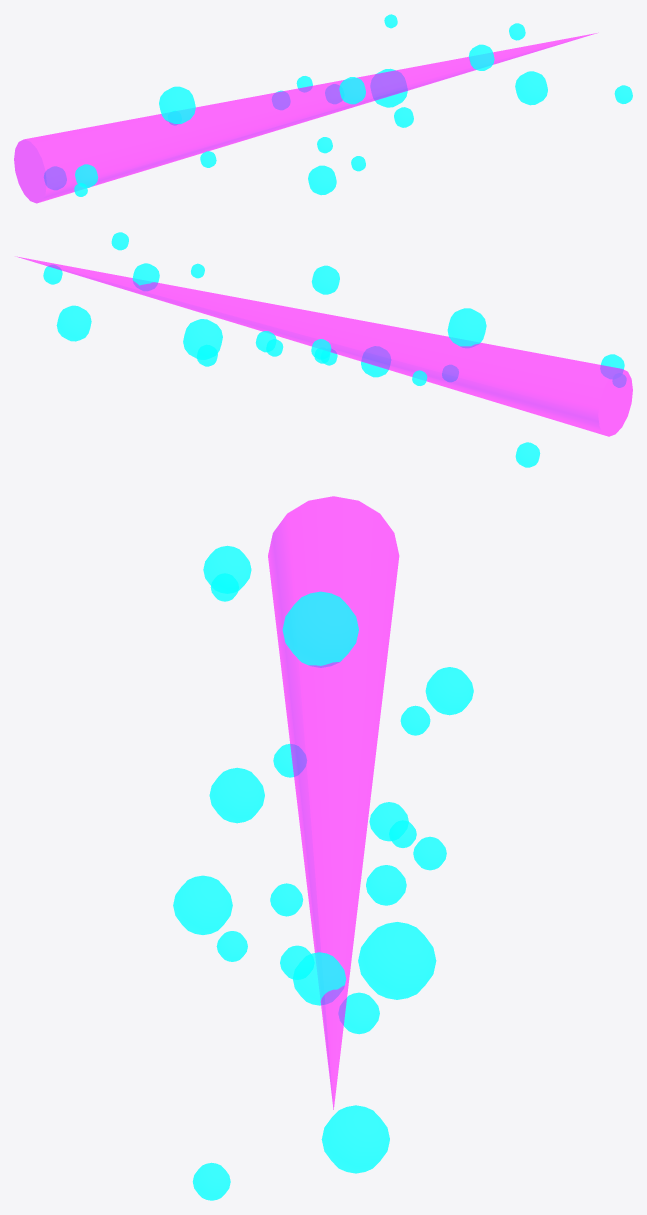
File: trail_star.glb
The picture shows the model from 3 angles, top to bottom: view 1: azimuth 30°, elevation 25°; view 2: azimuth 150°, elevation 25°; view 3: azimuth 270°, elevation 25°; orthographic projection. The views are drawn at different scales.
Parts seen in each view (by area): view 1: Trail; view 2: Trail; view 3: Trail.
Boxes of the visible parts, bbox=[...] form: Trail: bbox=[14, 14, 632, 203]; Trail: bbox=[17, 232, 632, 467]; Trail: bbox=[173, 496, 473, 1200].
Bounding box in the file's own units: 2.01 × 0.3804 × 0.4576.
